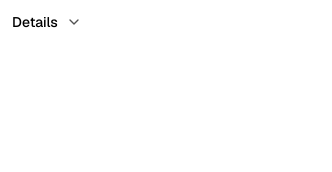
it: Collapsible › expands the panel when the trigger is clicked
Click the button "Details" at {"x": 47, "y": 22}, box 12,12 -> 82,32
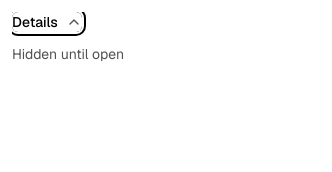
Expected: the button "Details" is expanded, 12,12 -> 82,32
Expected: the text "Hidden until open" is shown, 12,45 -> 124,63
